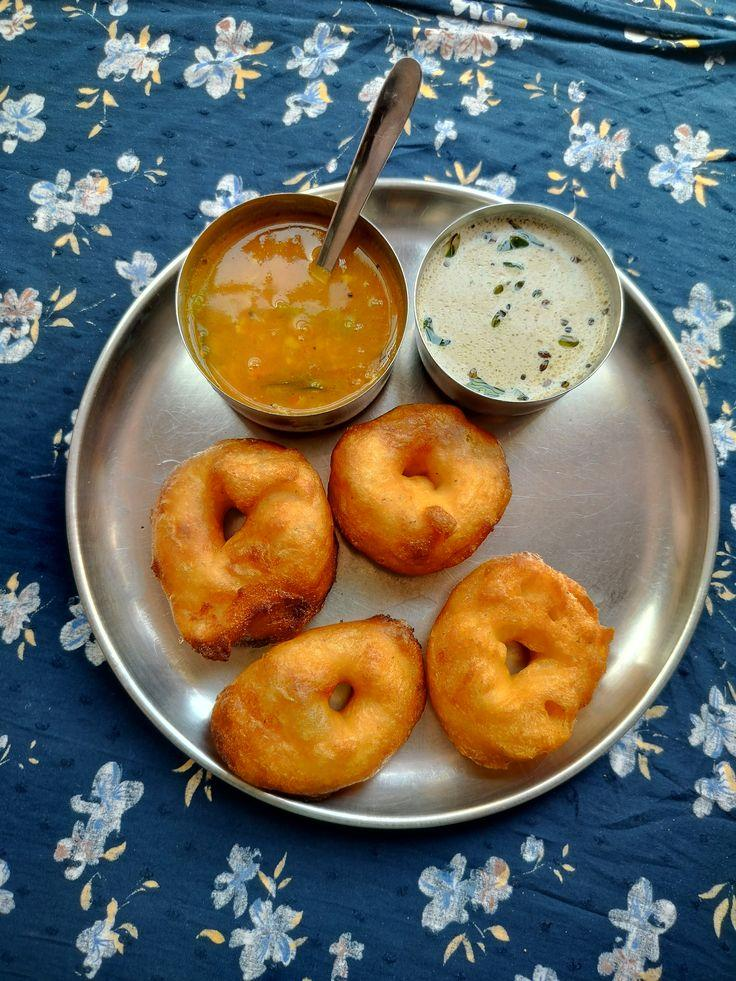coconut chutney: (437, 202, 609, 403)
medu vada: (123, 415, 620, 810)
sambhar: (193, 235, 391, 435)
